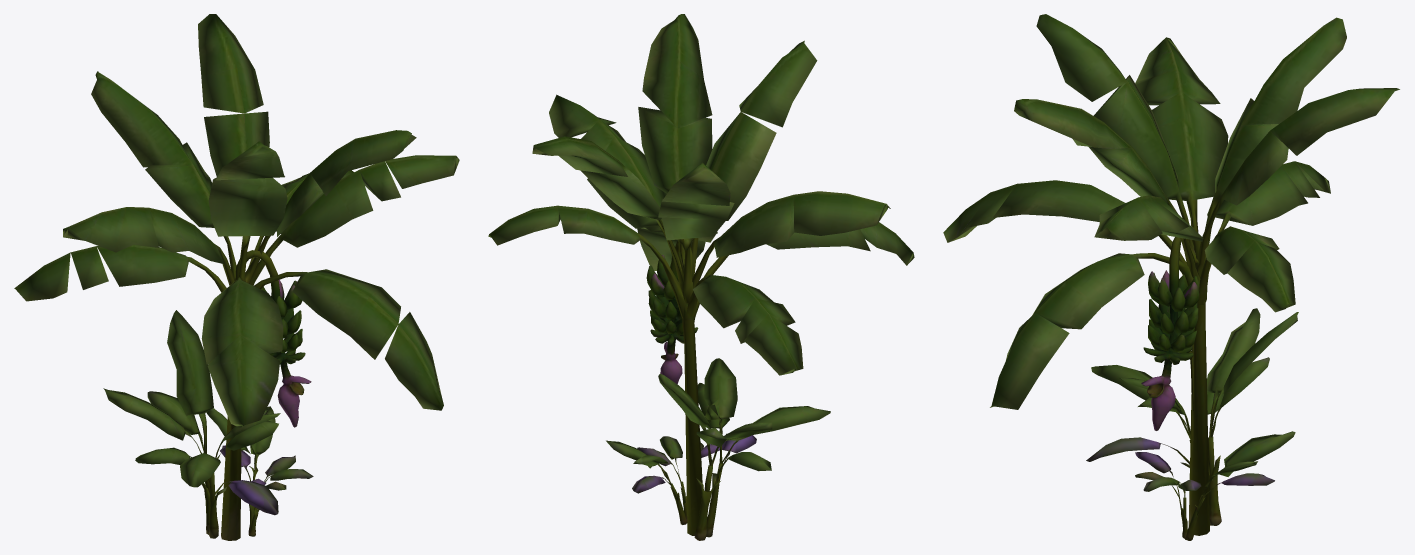
File: javaporcos_mint_bananeira.glb
3 renders of one model, left to right at view 1: azimuth 30°, elevation 25°; view 2: azimuth 150°, elevation 25°; view 3: azimuth 270°, elevation 25°, orthographic. The views are drawn at different scales.
Parts seen in each view (by area): view 1: Bananeira; view 2: Bananeira; view 3: Bananeira.
Boxes of the visible parts, bbox=[...] form: Bananeira: bbox=[14, 14, 459, 540]; Bananeira: bbox=[488, 14, 914, 540]; Bananeira: bbox=[943, 14, 1399, 540].
Size of the model in its own units: 4.22 by 5 by 4.18.
Materials: 1 (1 with a texture image).
